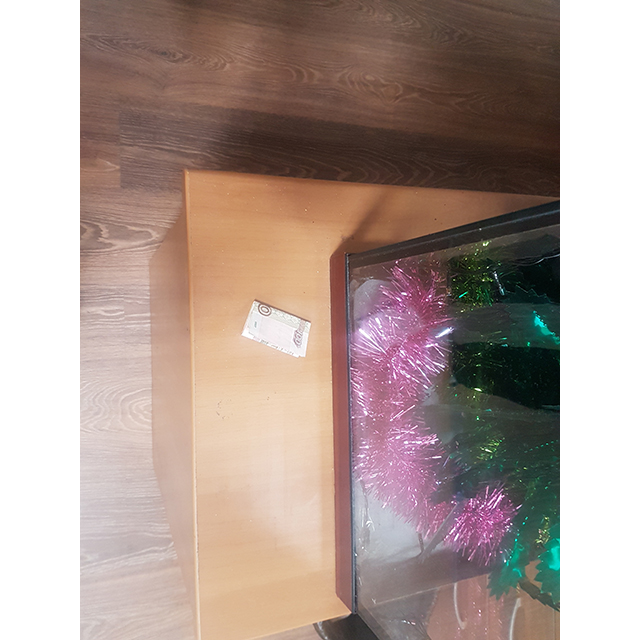banknotes: (238, 297, 310, 357)
